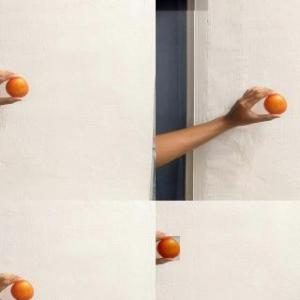tomato: (156, 236, 180, 260)
